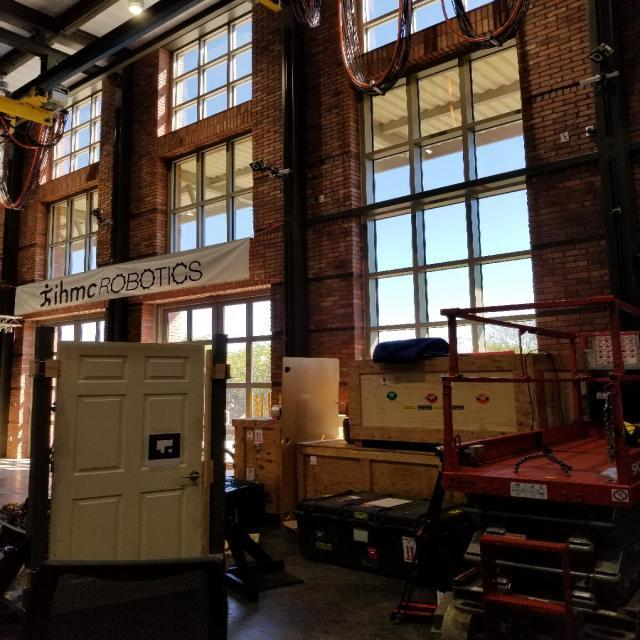door: (43, 338, 212, 588), (180, 470, 209, 485)
